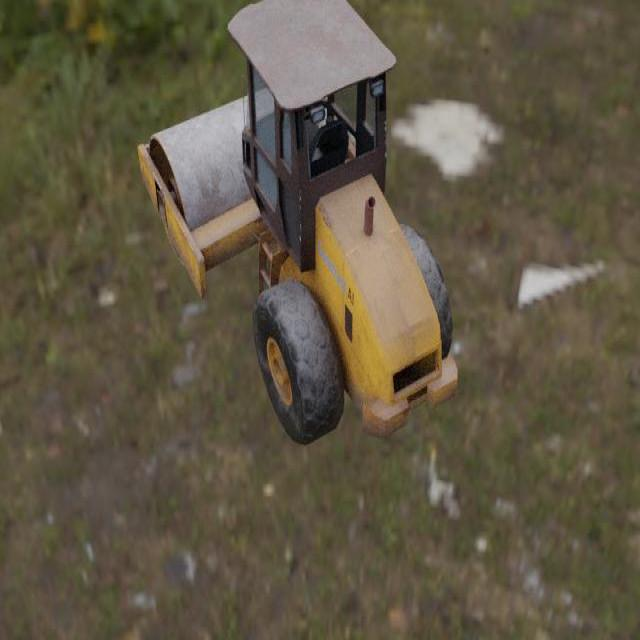Roller: (137, 0, 458, 447)
